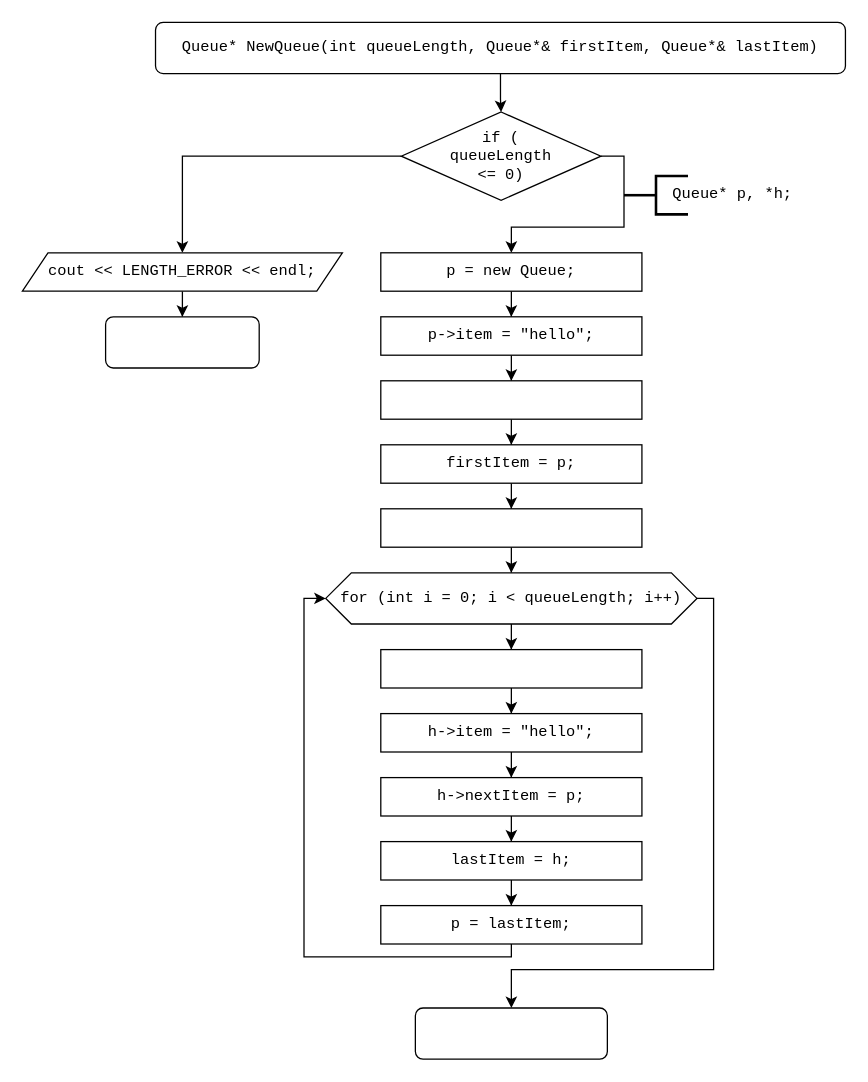
Image size: 868x1082. Some labels were removed from this diagram. The shapes that lost their labels are listed below. From the top down, each one's box as (x1, y1, x2, y2) in pixels, then its label:
(104, 316, 259, 368): return NULL;
(380, 380, 642, 419): p->nextItem = NULL;
(380, 508, 642, 547): lastItem = p;
(380, 648, 642, 688): h = new Queue;
(414, 1007, 607, 1059): return firstItem;
